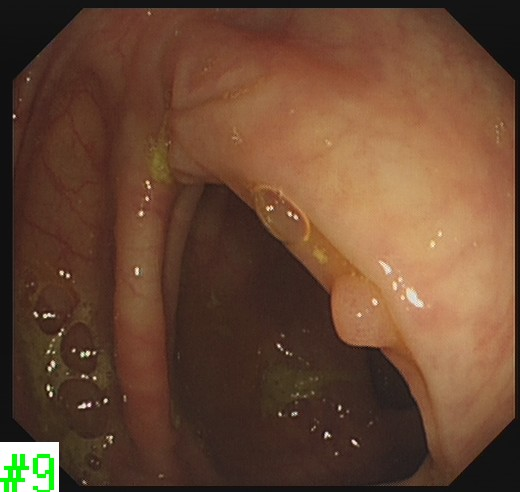adenoma: (328, 272, 404, 352)
